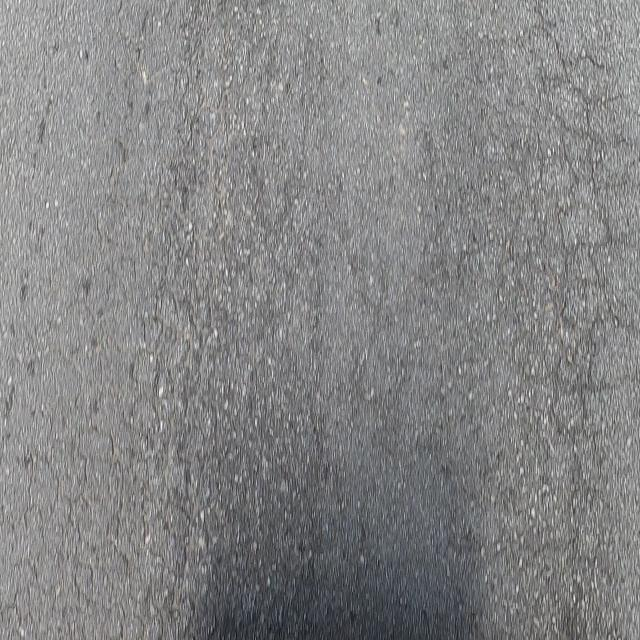Retak-Buaya: (4, 8, 232, 640), (502, 9, 640, 451)
